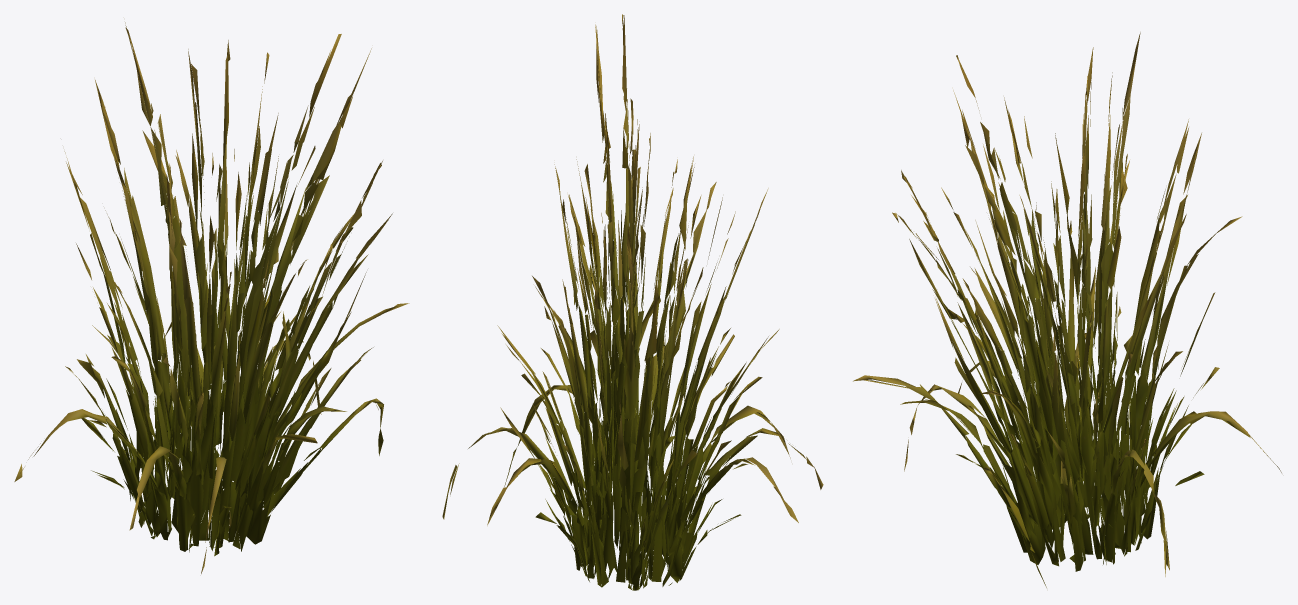
File: desert_grass_fine_tall.glb
The picture shows the model from 3 angles, left to right: view 1: azimuth 30°, elevation 25°; view 2: azimuth 150°, elevation 25°; view 3: azimuth 270°, elevation 25°; orthographic projection. The views are drawn at different scales.
Visible parts, largest first — view 1: desert_grass_fine_tall; view 2: desert_grass_fine_tall; view 3: desert_grass_fine_tall.
Part boxes in pixels (bbox=[...]): desert_grass_fine_tall: bbox=[14, 22, 409, 573]; desert_grass_fine_tall: bbox=[442, 14, 823, 590]; desert_grass_fine_tall: bbox=[853, 32, 1281, 587].
Size of the model in its own units: 0.8 by 1.18 by 0.8696.
Materials: 1 (1 with a texture image).
